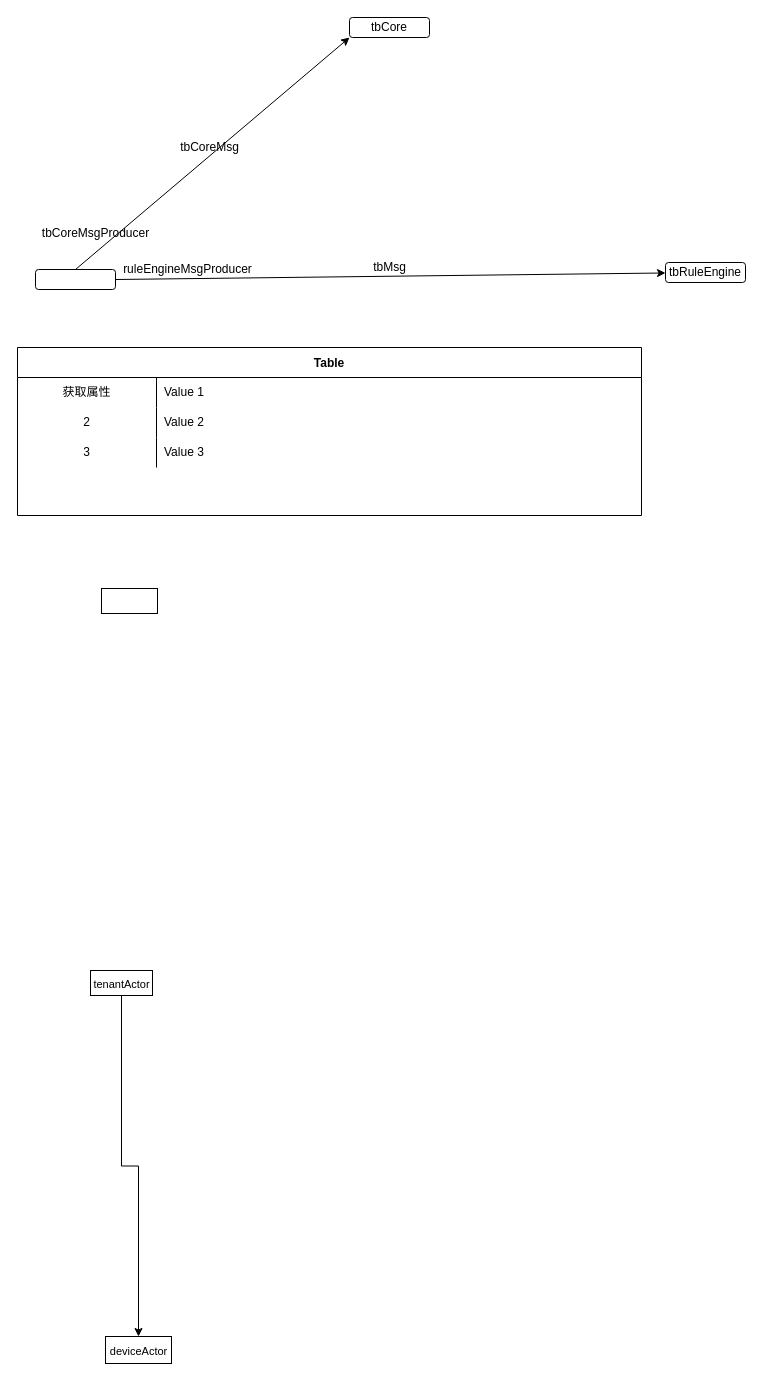
Image size: 763x1381. Some labels were removed from this diagram. Each missing label, with the box of its shape:
appActor: (100, 588, 158, 614)
tbTransport: (34, 268, 116, 290)
